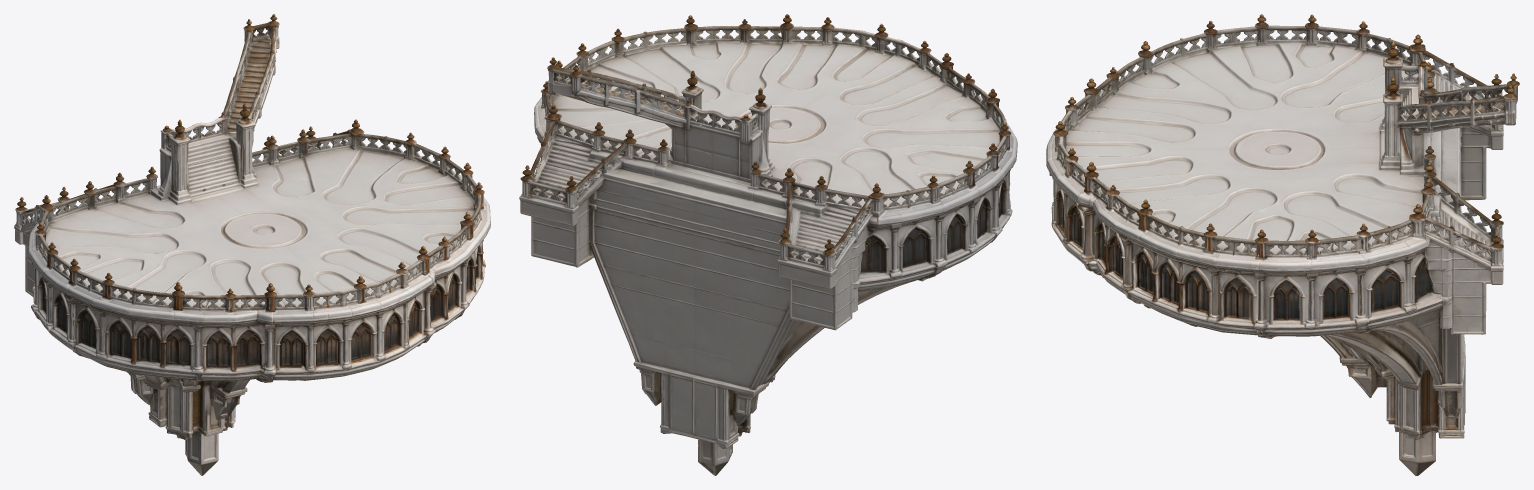
Rendered from circular_balcony.glb.
The picture shows the model from 3 angles, left to right: view 1: azimuth 30°, elevation 25°; view 2: azimuth 150°, elevation 25°; view 3: azimuth 270°, elevation 25°; orthographic projection. The views are drawn at different scales.
Bounding box in the file's own units: 0.9803 × 0.9105 × 0.8647.
Materials: 1 (1 with a texture image).
